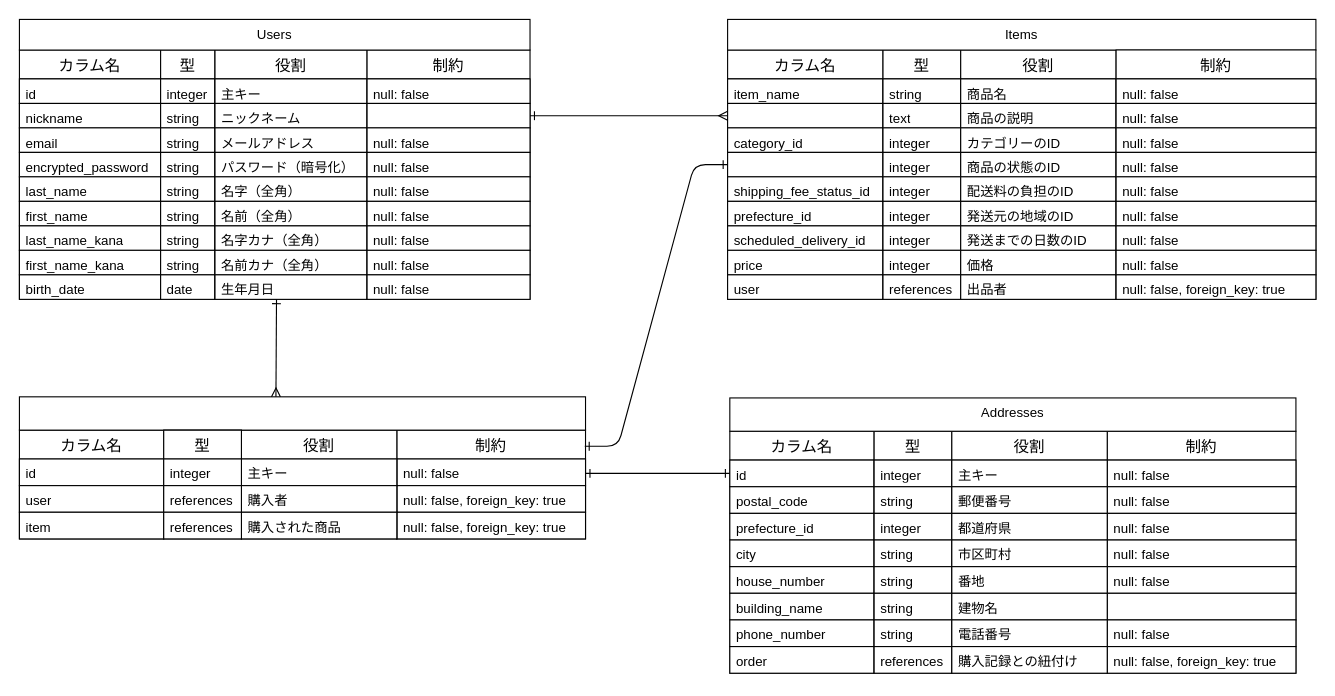
The diagram is 1335 pixels wide and 696 high, and some of its shapes have lost their labels. Each missing label, with the box of its shape:
info: (726, 102, 883, 128)
item_status_id: (726, 151, 883, 177)
null: false, unique: true: (366, 102, 530, 128)
Orders: (18, 396, 586, 430)
